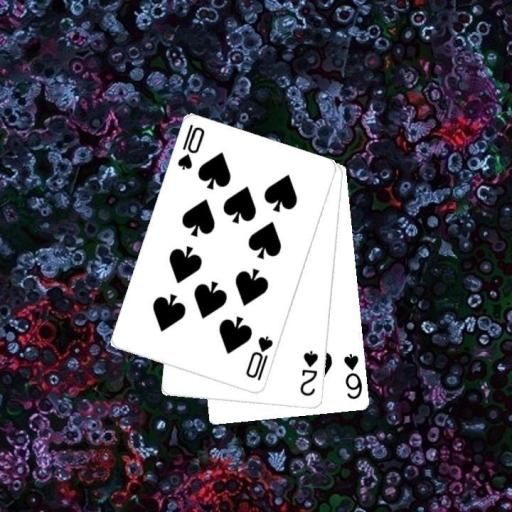10S: (243, 333, 275, 383), (174, 122, 206, 172)
2S: (297, 347, 320, 398)
6S: (341, 351, 364, 401)
